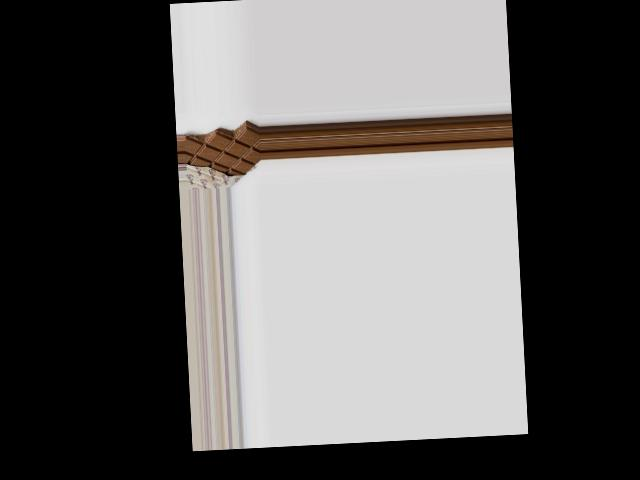chocolate: (183, 126, 261, 189)
